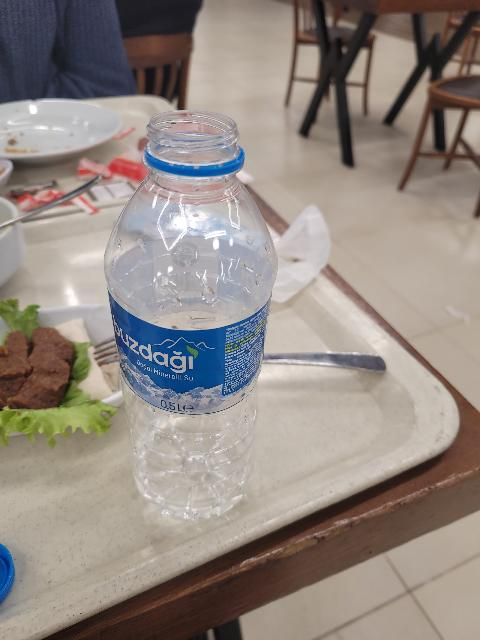Organik: (2, 316, 97, 436)
Plastik: (110, 111, 277, 522)
